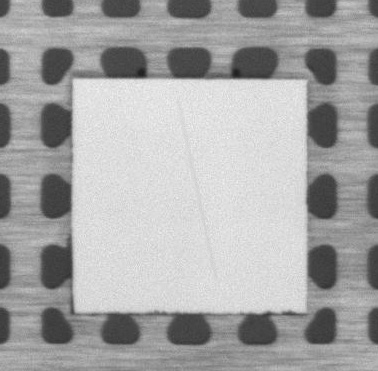DIE_CRACK: (181, 98, 220, 273)
